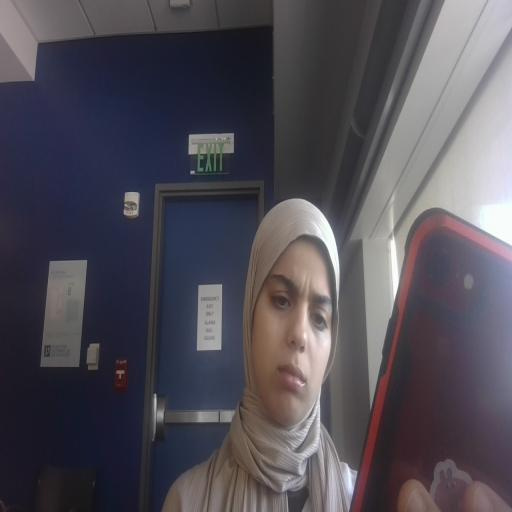phone: (352, 175, 512, 512)
